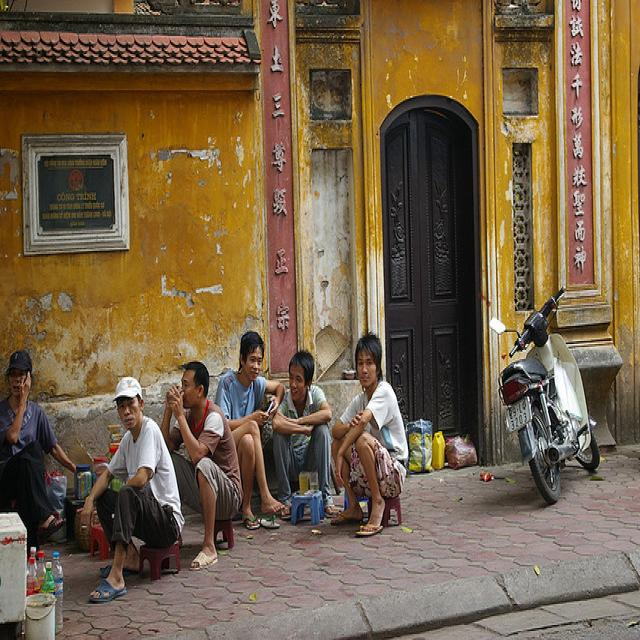motor: (488, 285, 602, 506)
